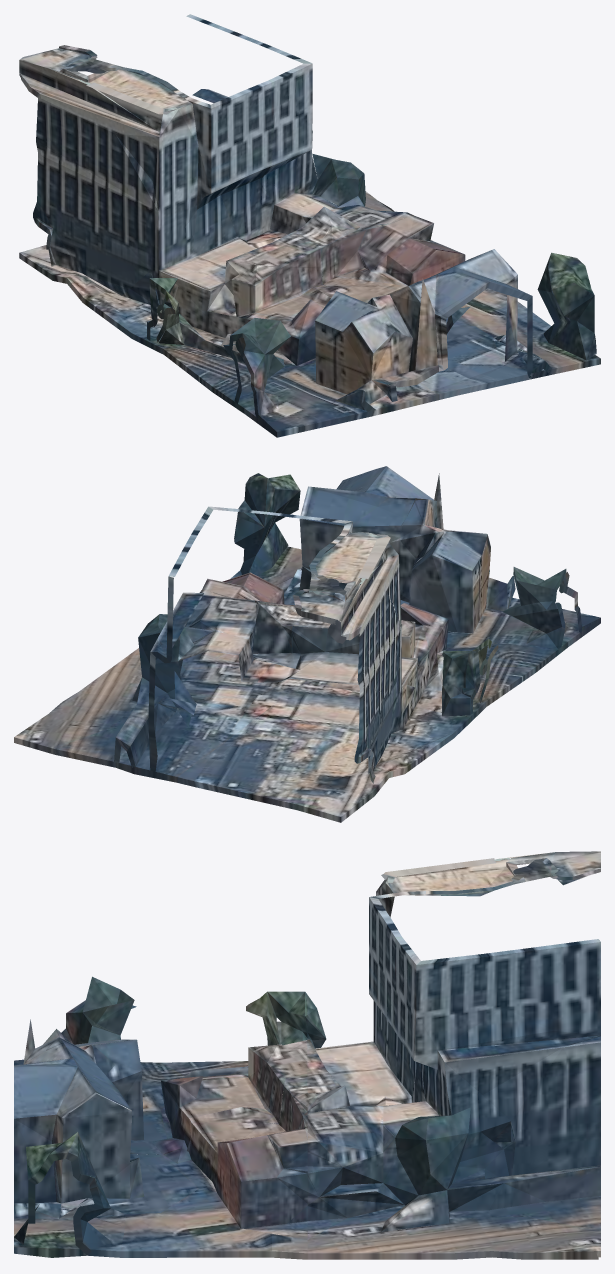
The model's file is chunk_5_0.glb.
3 renders of one model, top to bottom at view 1: azimuth 30°, elevation 25°; view 2: azimuth 150°, elevation 25°; view 3: azimuth 270°, elevation 25°, orthographic. The views are drawn at different scales.
Parts seen in each view (by area): view 1: hero-chunk; view 2: hero-chunk; view 3: hero-chunk.
Part boxes in pixels (x1=…): hero-chunk: x1=19, y1=14, x2=600, y2=437; hero-chunk: x1=14, y1=466, x2=600, y2=822; hero-chunk: x1=14, y1=851, x2=600, y2=1259.
Size of the model in its own units: 56.35 by 33.4 by 76.32.
2 materials, 2 textured.
